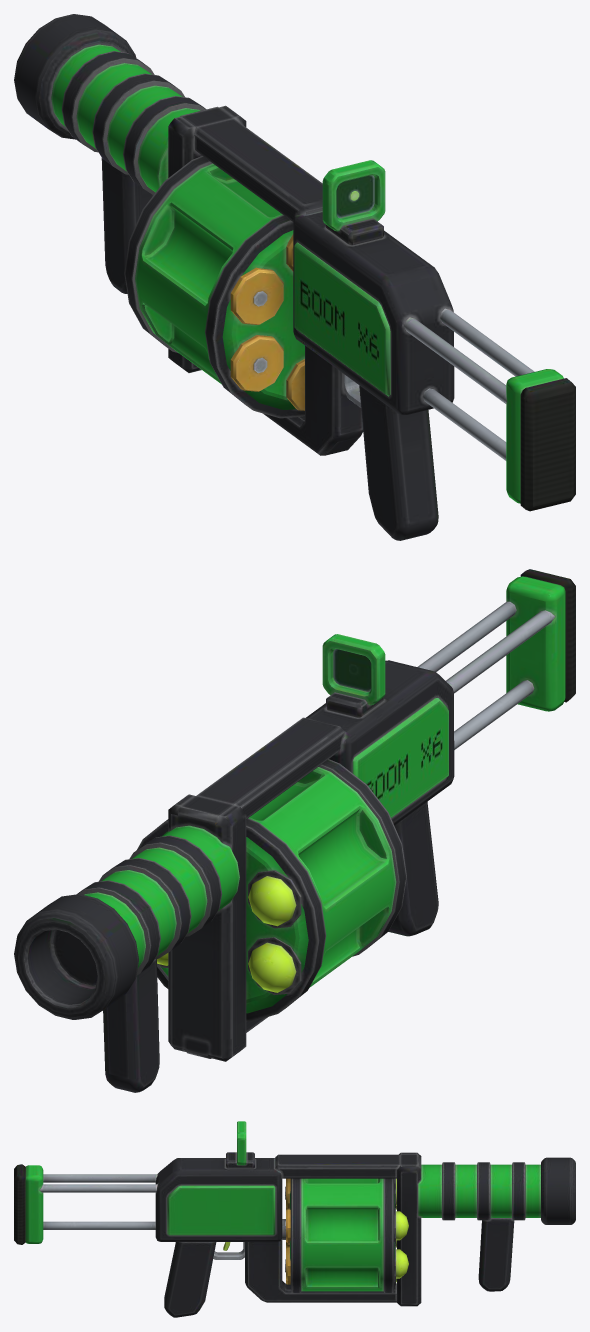
The model's file is gl_drum.glb.
The picture shows the model from 3 angles, top to bottom: view 1: azimuth 30°, elevation 25°; view 2: azimuth 150°, elevation 25°; view 3: azimuth 270°, elevation 25°; orthographic projection. The views are drawn at different scales.
Visible parts, largest first — view 1: gl_drum, drum; view 2: gl_drum, drum; view 3: gl_drum, drum.
Part boxes in pixels (x1,y1,x2,y2): gl_drum: (14,14,575,540); drum: (124,156,304,418); gl_drum: (14,569,575,1092); drum: (137,759,406,1021); gl_drum: (14,1121,575,1317); drum: (285,1178,408,1292).
Bounding box in the file's own units: 0.219 × 0.3534 × 0.963.
Materials: 10 (10 with a texture image).
